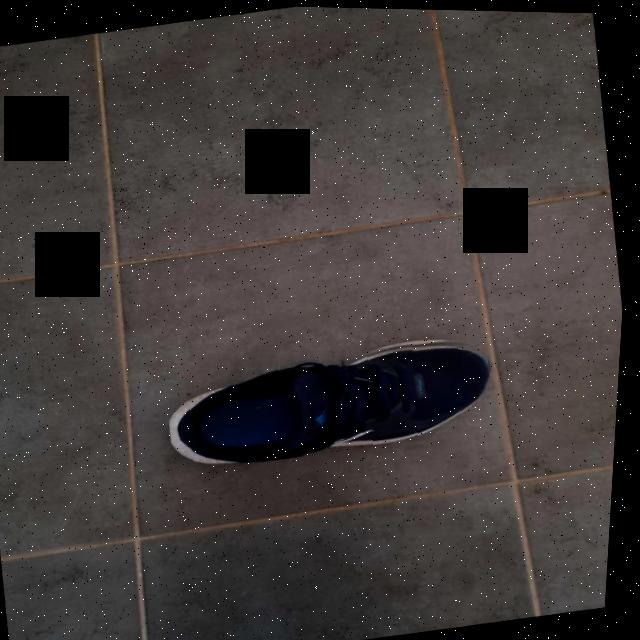shoe: (164, 321, 506, 478)
